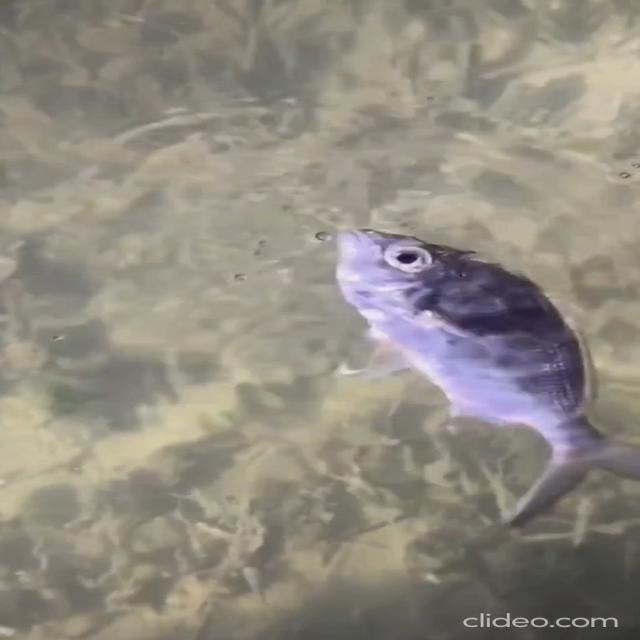fish: (330, 217, 640, 526)
